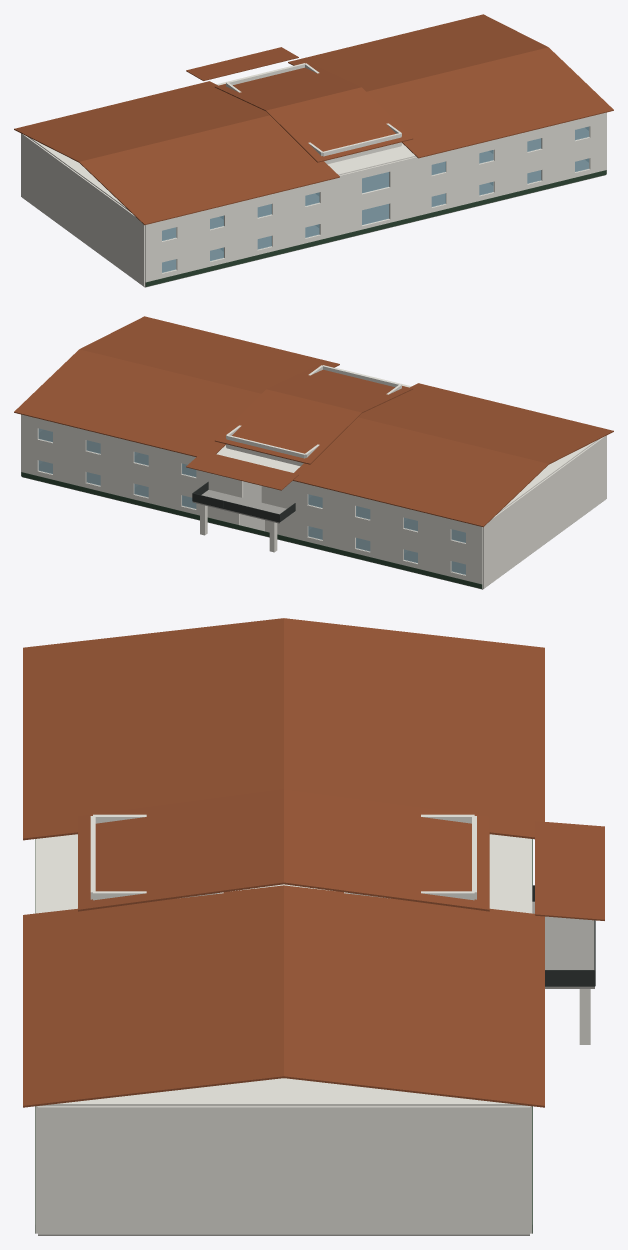
Rendered from bloco_instrucao.obj.
The picture shows the model from 3 angles, top to bottom: view 1: azimuth 30°, elevation 25°; view 2: azimuth 150°, elevation 25°; view 3: azimuth 270°, elevation 25°; orthographic projection. The views are drawn at different scales.
Visible parts, largest first — view 1: RoofLeftBack, RoofRightBack, RoofLeftFront, RoofRightFront, RoofCoreBack, RoofCoreFront, GreenBand49.55, F0_SideL, GroundSlab, F1_SideL, Ceiling2, F1_DivBack-106 (+42 smaller); view 2: RoofLeftFront, RoofRightFront, RoofLeftBack, RoofRightBack, RoofCoreFront, RoofCoreBack, F1_SideL, F0_SideL, GreenBand-49.55, BalconyCanopy, GroundSlab, F1_DivFront-106 (+36 smaller); view 3: RoofRightBack, RoofRightFront, RoofLeftBack, RoofLeftFront, F1_SideR, F0_SideR, RoofCoreBack, RoofCoreFront, Ceiling2, F1_DivBack106, F1_DivFront106, F0_DivFront106 (+5 smaller).
Boxes of the visible parts, x1=… form: RoofLeftBack: x1=79, y1=115, x2=339, y2=225; RoofRightBack: x1=366, y1=47, x2=613, y2=158; RoofLeftFront: x1=14, y1=81, x2=269, y2=162; RoofRightFront: x1=288, y1=14, x2=547, y2=91; RoofCoreBack: x1=266, y1=87, x2=413, y2=162; RoofCoreFront: x1=215, y1=63, x2=361, y2=110; GreenBand49.55: x1=145, y1=170, x2=606, y2=286; F0_SideL: x1=21, y1=168, x2=143, y2=285; GroundSlab: x1=144, y1=160, x2=605, y2=287; F1_SideL: x1=21, y1=134, x2=143, y2=254; Ceiling2: x1=27, y1=65, x2=415, y2=211; F1_DivBack-106: x1=93, y1=186, x2=144, y2=254; RoofLeftFront: x1=293, y1=417, x2=548, y2=527; RoofRightFront: x1=14, y1=349, x2=261, y2=457; RoofLeftBack: x1=358, y1=383, x2=613, y2=464; RoofRightBack: x1=80, y1=316, x2=339, y2=393; RoofCoreFront: x1=214, y1=389, x2=361, y2=464; RoofCoreBack: x1=266, y1=365, x2=412, y2=412; F1_SideL: x1=484, y1=436, x2=606, y2=556; F0_SideL: x1=484, y1=468, x2=606, y2=587; GreenBand-49.55: x1=21, y1=472, x2=482, y2=588; BalconyCanopy: x1=186, y1=451, x2=298, y2=490; GroundSlab: x1=22, y1=462, x2=483, y2=589; F1_DivFront-106: x1=483, y1=488, x2=534, y2=556; RoofRightBack: x1=23, y1=885, x2=283, y2=1107; RoofRightFront: x1=284, y1=885, x2=544, y2=1107; RoofLeftBack: x1=23, y1=618, x2=283, y2=840; RoofLeftFront: x1=284, y1=618, x2=544, y2=839; F1_SideR: x1=38, y1=1106, x2=529, y2=1170; F0_SideR: x1=38, y1=1171, x2=529, y2=1234; RoofCoreBack: x1=78, y1=789, x2=283, y2=911; RoofCoreFront: x1=284, y1=789, x2=489, y2=911; Ceiling2: x1=38, y1=834, x2=529, y2=1106; F1_DivBack106: x1=38, y1=1106, x2=238, y2=1170; F1_DivFront106: x1=329, y1=1106, x2=529, y2=1170; F0_DivFront106: x1=329, y1=1171, x2=529, y2=1234.
Size of the model in its own units: 216 by 38.5 by 116.
